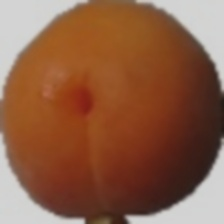apricot: (17, 13, 201, 172)
